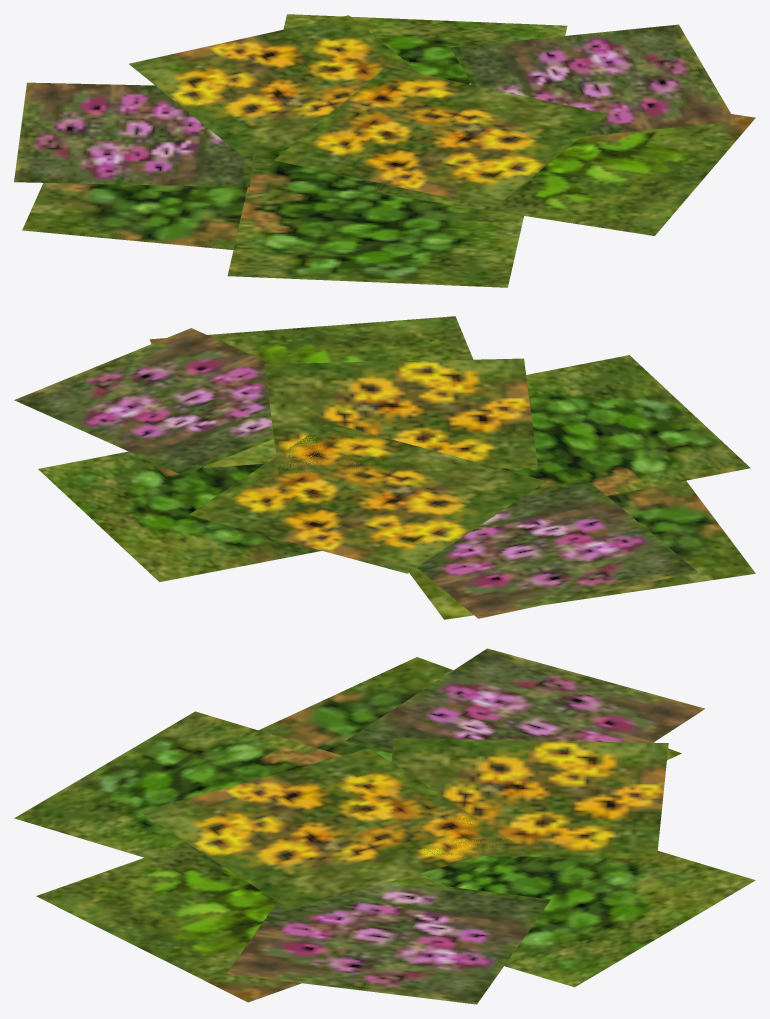
The model's file is world_a_flowers_e.glb.
The picture shows the model from 3 angles, top to bottom: view 1: azimuth 30°, elevation 25°; view 2: azimuth 150°, elevation 25°; view 3: azimuth 270°, elevation 25°; orthographic projection. The views are drawn at different scales.
Visible parts, largest first — view 1: MeshRoot; view 2: MeshRoot; view 3: MeshRoot.
Boxes of the visible parts, left/top/right/bottom form: MeshRoot: left=14, top=14, right=755, bottom=287; MeshRoot: left=14, top=316, right=755, bottom=619; MeshRoot: left=14, top=648, right=755, bottom=1004.
Bounding box in the file's own units: 4.06 × 0.168 × 3.45.
1 material, 1 textured.
